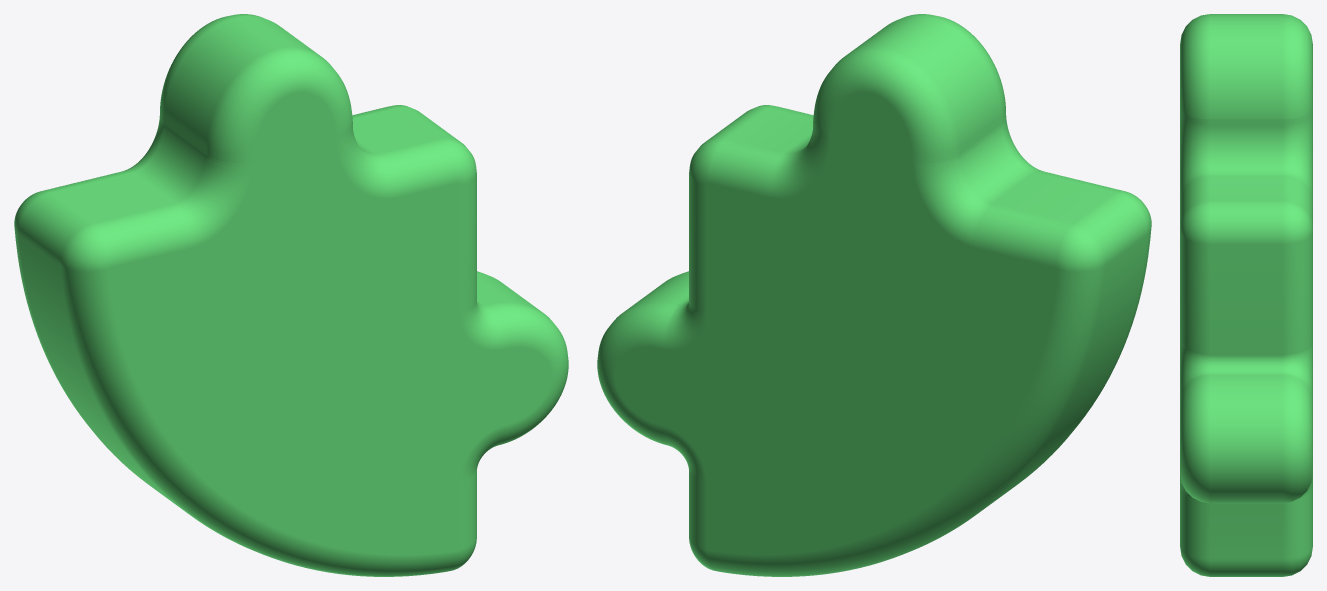
Rendered from green-puzzle.glb.
3 renders of one model, left to right at view 1: azimuth 30°, elevation 25°; view 2: azimuth 150°, elevation 25°; view 3: azimuth 270°, elevation 25°, orthographic. The views are drawn at different scales.
Parts seen in each view (by area): view 1: Shape 0.011; view 2: Shape 0.011; view 3: Shape 0.011.
Boxes of the visible parts, box(x1,y1,x2,y2) form: Shape 0.011: box(14, 14, 568, 576); Shape 0.011: box(597, 14, 1151, 576); Shape 0.011: box(1180, 14, 1312, 576).
Size of the model in its own units: 2.07 by 2.2 by 0.5457.
